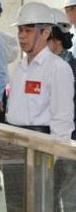hard-hat: (0, 4, 21, 29)
